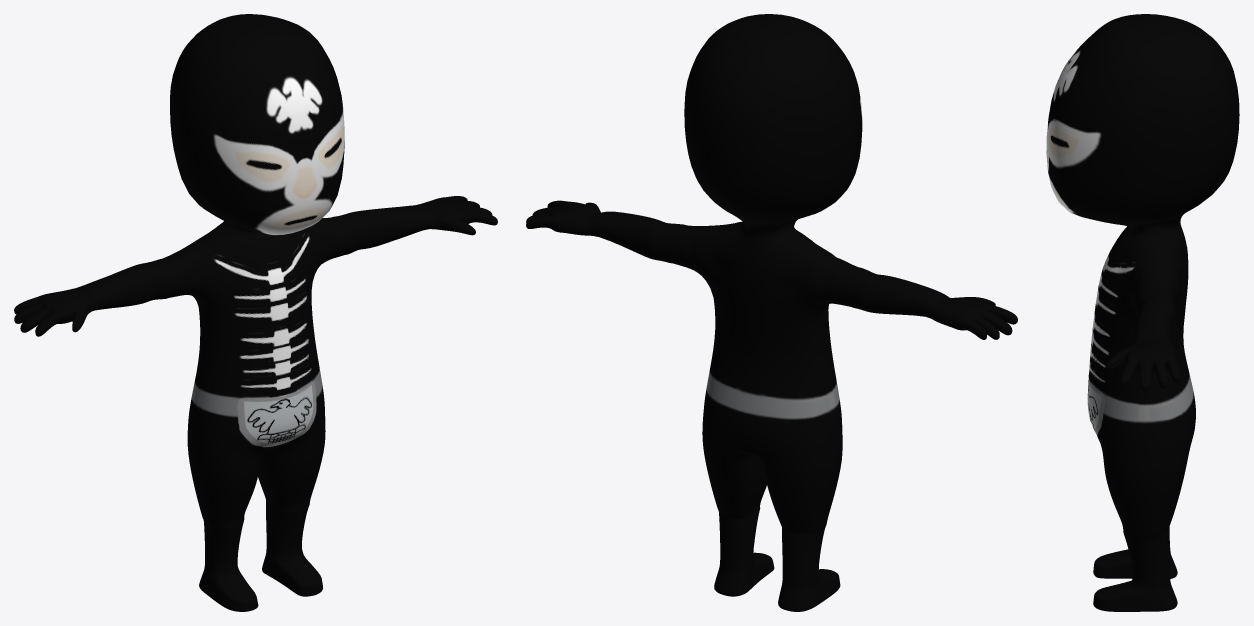
3 renders of one model, left to right at view 1: azimuth 30°, elevation 25°; view 2: azimuth 150°, elevation 25°; view 3: azimuth 270°, elevation 25°, orthographic.
Visible parts, largest first — view 1: human.003; view 2: human.003; view 3: human.003.
Boxes of the visible parts, x1,y1,x2,y2 form: human.003: [14, 14, 497, 611]; human.003: [526, 14, 1017, 611]; human.003: [1046, 14, 1239, 611].
Bounding box in the file's own units: 2.11 × 2.39 × 0.742.
1 material, 1 textured.
